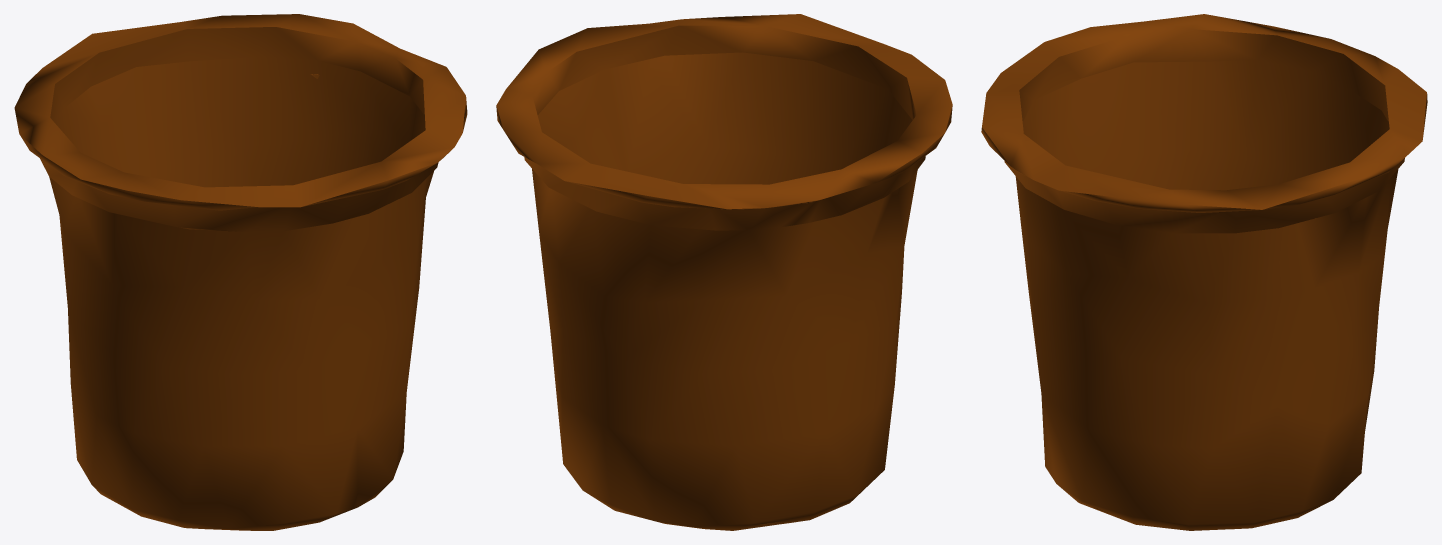
The model's file is cup2.fbx.
3 views of the same model, side by side, from view 1: azimuth 30°, elevation 25°; view 2: azimuth 150°, elevation 25°; view 3: azimuth 270°, elevation 25° (orthographic).
Visible parts, largest first — view 1: cup2; view 2: cup2; view 3: cup2.
Boxes of the visible parts, <box> form: cup2: <box>14,14,467,530</box>; cup2: <box>496,14,952,530</box>; cup2: <box>981,14,1427,530</box>.
Size of the model in its own units: 12.3 by 10.87 by 12.17.
